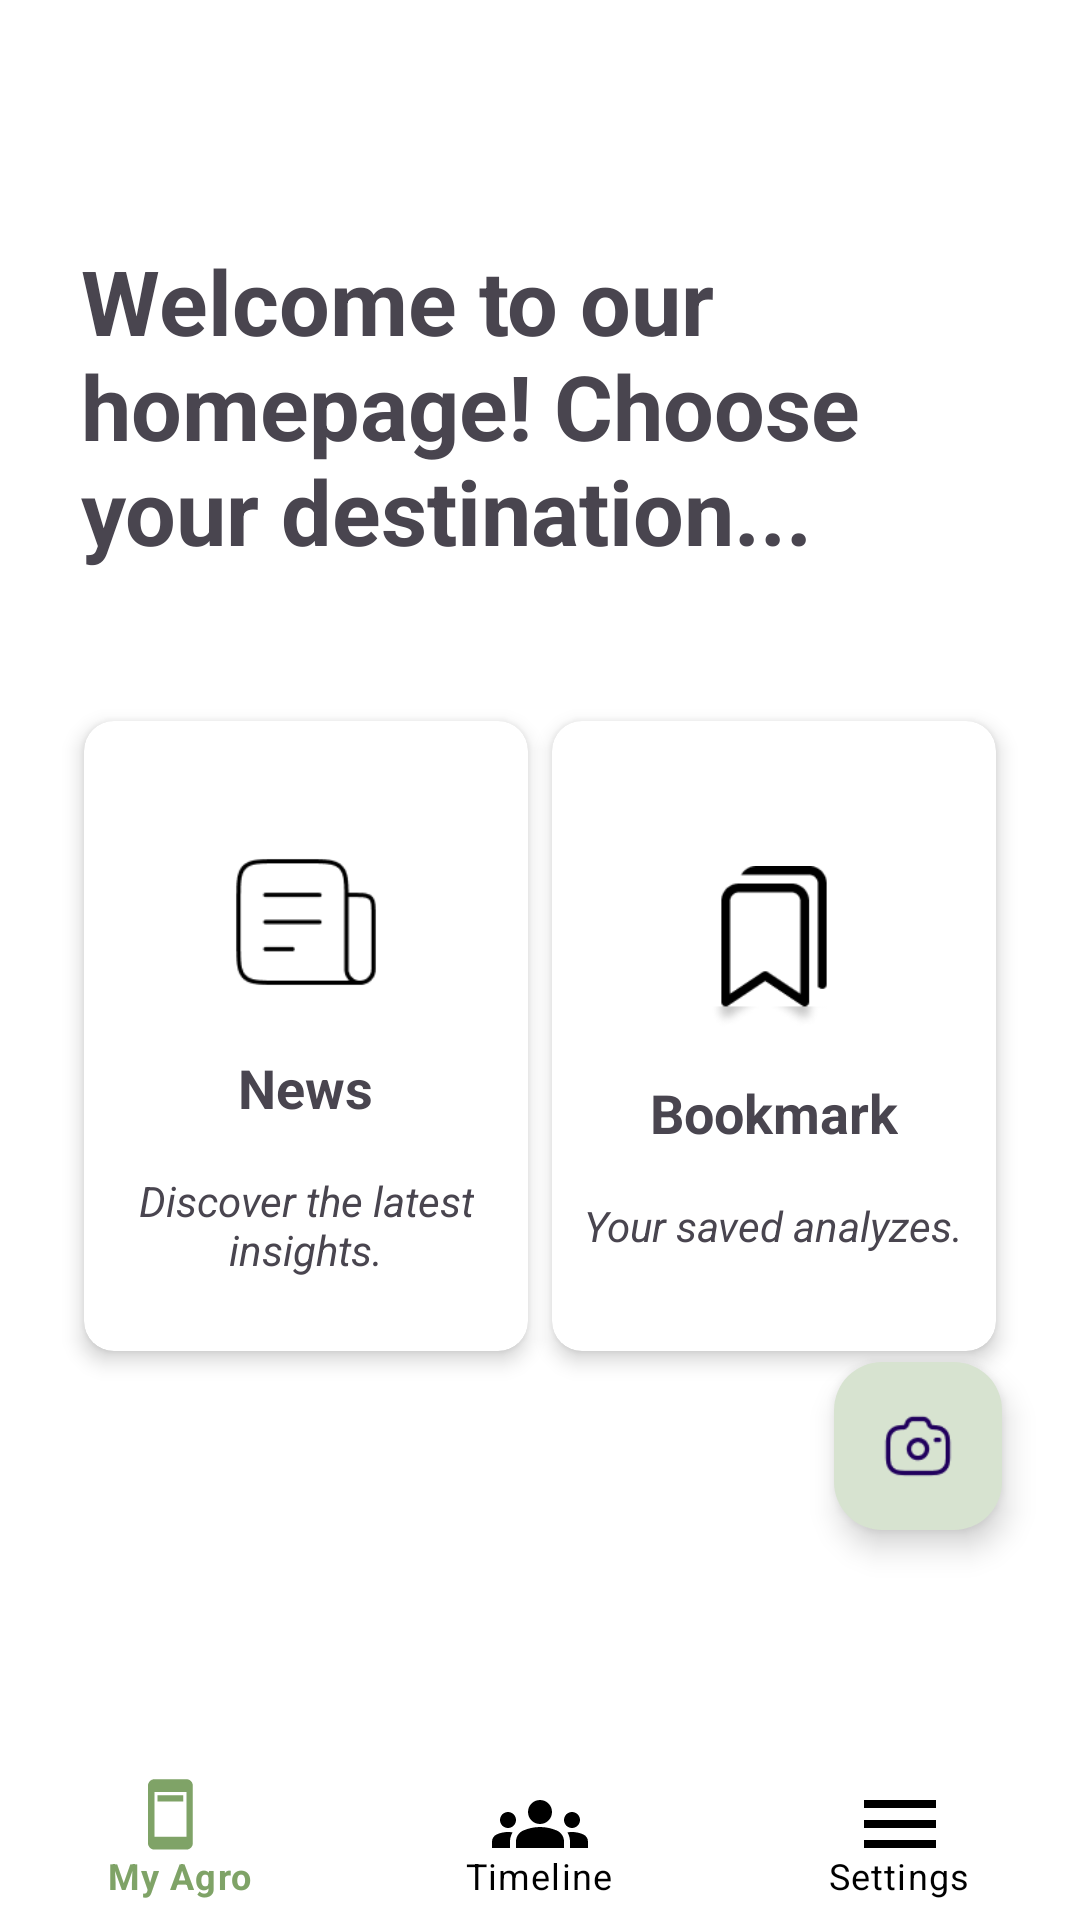

Where icons sit on this 1080px×1920px app screen, as (x1, y1, x2, y2):
camera: (834, 1362, 1002, 1530)
